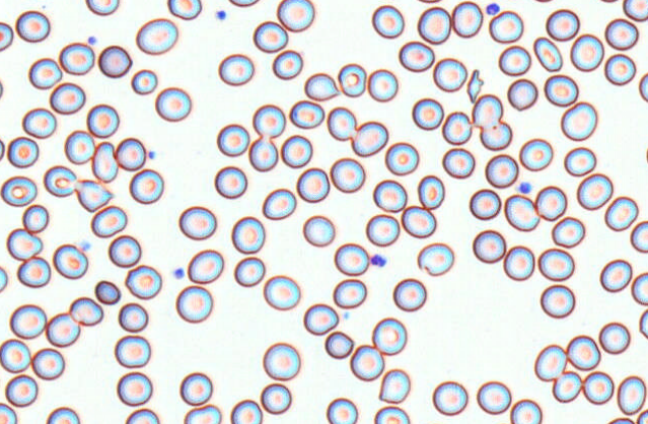PLT: (485, 0, 500, 16), (370, 254, 387, 268), (518, 179, 533, 194), (215, 9, 228, 22), (172, 268, 184, 280), (145, 149, 158, 160), (86, 35, 97, 45)
RBC: (135, 17, 178, 55), (175, 284, 213, 323), (560, 101, 597, 141), (262, 342, 300, 380), (576, 172, 613, 210), (371, 316, 407, 355), (9, 303, 46, 339), (351, 120, 388, 156), (263, 274, 300, 310), (178, 205, 216, 240), (231, 215, 265, 254), (432, 380, 468, 416), (52, 243, 88, 279), (155, 86, 191, 122), (349, 344, 384, 381), (504, 194, 539, 231), (124, 264, 161, 299), (417, 6, 451, 44), (570, 33, 604, 71), (116, 371, 152, 406), (330, 157, 365, 193), (129, 168, 164, 204), (187, 249, 223, 284), (90, 204, 127, 238), (417, 242, 454, 276), (537, 247, 574, 281), (45, 312, 80, 347), (432, 57, 467, 92), (566, 334, 600, 370), (114, 334, 150, 368), (604, 195, 638, 231), (534, 344, 567, 381), (276, 0, 314, 32), (451, 0, 483, 38), (616, 375, 646, 415), (484, 153, 518, 188), (384, 141, 419, 175), (334, 242, 369, 276), (476, 380, 511, 414), (540, 284, 575, 318), (534, 185, 567, 221), (49, 81, 85, 114), (218, 53, 254, 86), (58, 42, 94, 75), (472, 229, 506, 263), (392, 277, 426, 311), (519, 137, 553, 171), (252, 103, 285, 138), (401, 205, 436, 238), (372, 179, 407, 212), (296, 167, 329, 202), (488, 10, 523, 43), (86, 103, 119, 138), (6, 228, 42, 260), (398, 40, 434, 72), (0, 175, 37, 206), (43, 164, 77, 197), (179, 371, 212, 405), (365, 213, 399, 246), (31, 347, 65, 380), (214, 165, 247, 199), (262, 187, 296, 220), (599, 258, 632, 292), (371, 4, 404, 38), (98, 44, 132, 77), (545, 8, 579, 41), (471, 93, 503, 128), (378, 368, 410, 403), (303, 303, 338, 335), (253, 20, 288, 52), (543, 74, 578, 106), (15, 10, 50, 42), (503, 245, 534, 281), (91, 141, 118, 182), (5, 374, 38, 407), (411, 97, 444, 130), (302, 214, 335, 247), (216, 123, 249, 156), (108, 234, 141, 267), (280, 134, 312, 168), (582, 370, 614, 404), (551, 216, 585, 248), (114, 137, 146, 171), (28, 57, 62, 89), (604, 18, 638, 50), (64, 129, 95, 164), (0, 338, 31, 373), (326, 106, 357, 141), (21, 107, 56, 138), (598, 321, 630, 354), (441, 111, 472, 145), (17, 256, 51, 287), (367, 68, 398, 102), (248, 136, 278, 171), (289, 99, 324, 129), (533, 36, 562, 72), (469, 188, 501, 220), (7, 136, 39, 168), (604, 53, 636, 85), (442, 147, 475, 178), (507, 78, 538, 111), (498, 45, 531, 76), (69, 296, 103, 326), (332, 278, 366, 308), (304, 72, 339, 101), (260, 382, 291, 414), (233, 256, 265, 287), (479, 120, 512, 150), (552, 370, 582, 403), (563, 146, 596, 176), (337, 63, 366, 97), (417, 174, 445, 209), (272, 49, 303, 79), (118, 302, 148, 332), (324, 330, 353, 359), (326, 397, 358, 423), (509, 398, 542, 423), (22, 203, 49, 233), (230, 399, 262, 423), (130, 68, 157, 95), (183, 404, 221, 423), (167, 0, 201, 20), (94, 279, 120, 305), (373, 405, 409, 423), (46, 406, 80, 423), (630, 220, 647, 253), (631, 272, 647, 305), (622, 0, 647, 21), (125, 408, 159, 423), (85, 0, 119, 15), (0, 21, 13, 51), (0, 402, 17, 423), (638, 72, 647, 102), (639, 308, 647, 339), (228, 0, 259, 7), (0, 265, 8, 292), (607, 416, 634, 423), (636, 409, 647, 423), (0, 138, 5, 161), (416, 0, 441, 3), (532, 0, 553, 3), (0, 78, 3, 99), (598, 0, 618, 3), (645, 145, 648, 164)
Schistocyte: (76, 180, 114, 213), (467, 69, 484, 103)
